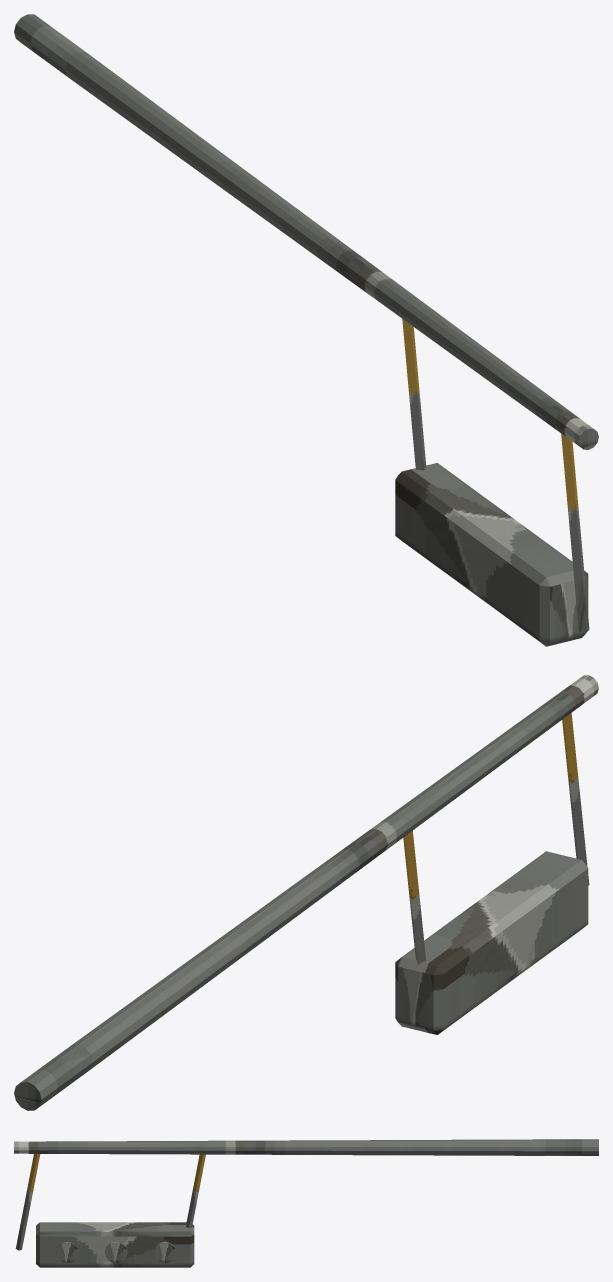
Rendered from pz_street_pole_14.obj.
3 renders of one model, top to bottom at view 1: azimuth 30°, elevation 25°; view 2: azimuth 150°, elevation 25°; view 3: azimuth 270°, elevation 25°, orthographic. The views are drawn at different scales.
Parts seen in each view (by area): view 1: pz_street_pole_14_|_tapered_native_street_pole, pz_street_pole_14_|_native_traffic_signal_housing, pz_street_pole_14_|_traffic_light_support_arm.001, pz_street_pole_14_|_traffic_light_support_arm; view 2: pz_street_pole_14_|_tapered_native_street_pole, pz_street_pole_14_|_native_traffic_signal_housing, pz_street_pole_14_|_traffic_light_support_arm.001, pz_street_pole_14_|_traffic_light_support_arm; view 3: pz_street_pole_14_|_tapered_native_street_pole, pz_street_pole_14_|_native_traffic_signal_housing, pz_street_pole_14_|_traffic_light_support_arm.001, pz_street_pole_14_|_traffic_light_support_arm, pz_street_pole_14_|_signal_light_lens.002, pz_street_pole_14_|_signal_light_lens, pz_street_pole_14_|_signal_light_lens.001.
Part boxes in pixels (x1,y1,x2,y2): pz_street_pole_14_|_tapered_native_street_pole: (14, 14, 598, 449); pz_street_pole_14_|_native_traffic_signal_housing: (395, 463, 588, 646); pz_street_pole_14_|_traffic_light_support_arm.001: (561, 433, 589, 631); pz_street_pole_14_|_traffic_light_support_arm: (402, 319, 426, 470); pz_street_pole_14_|_tapered_native_street_pole: (14, 675, 598, 1110); pz_street_pole_14_|_native_traffic_signal_housing: (395, 851, 588, 1034); pz_street_pole_14_|_traffic_light_support_arm.001: (562, 713, 589, 885); pz_street_pole_14_|_traffic_light_support_arm: (403, 830, 426, 964); pz_street_pole_14_|_tapered_native_street_pole: (14, 1139, 598, 1155); pz_street_pole_14_|_native_traffic_signal_housing: (36, 1222, 194, 1267); pz_street_pole_14_|_traffic_light_support_arm.001: (15, 1154, 40, 1250); pz_street_pole_14_|_traffic_light_support_arm: (186, 1154, 205, 1227); pz_street_pole_14_|_signal_light_lens.002: (153, 1241, 176, 1263); pz_street_pole_14_|_signal_light_lens: (56, 1241, 78, 1263); pz_street_pole_14_|_signal_light_lens.001: (105, 1241, 127, 1263).
Size of the model in its own units: 0.139 by 0.556 by 2.4.
5 materials, 5 textured.
